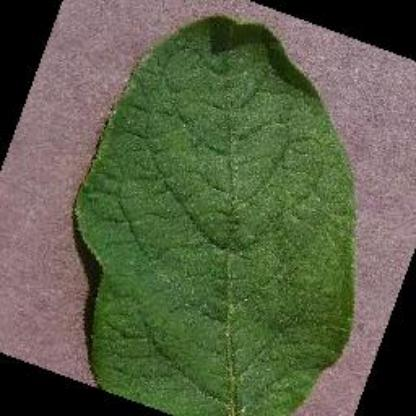Healthy-plant: (70, 12, 356, 416)
